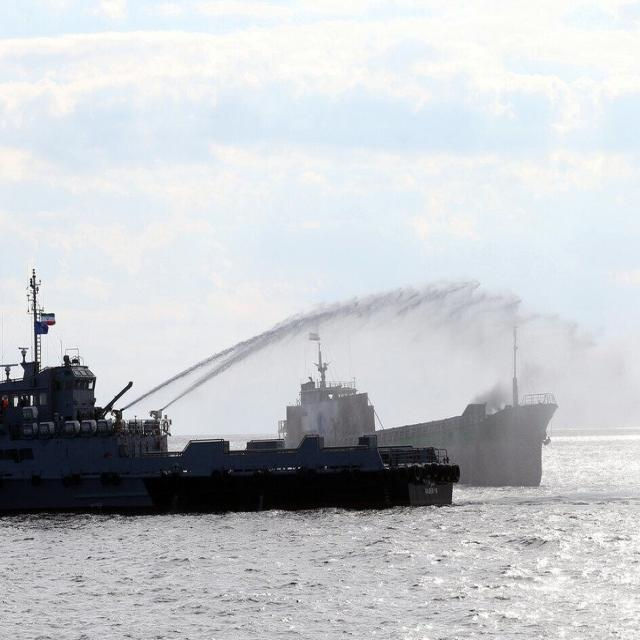navalvessels: (0, 280, 494, 508)
